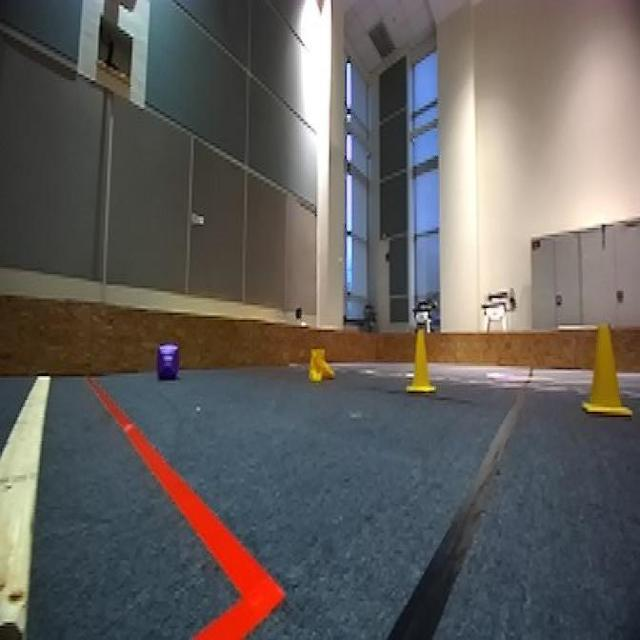frc_cone: (582, 325, 626, 415), (405, 325, 438, 395), (307, 347, 338, 383)
frc_cube: (155, 340, 180, 380)
